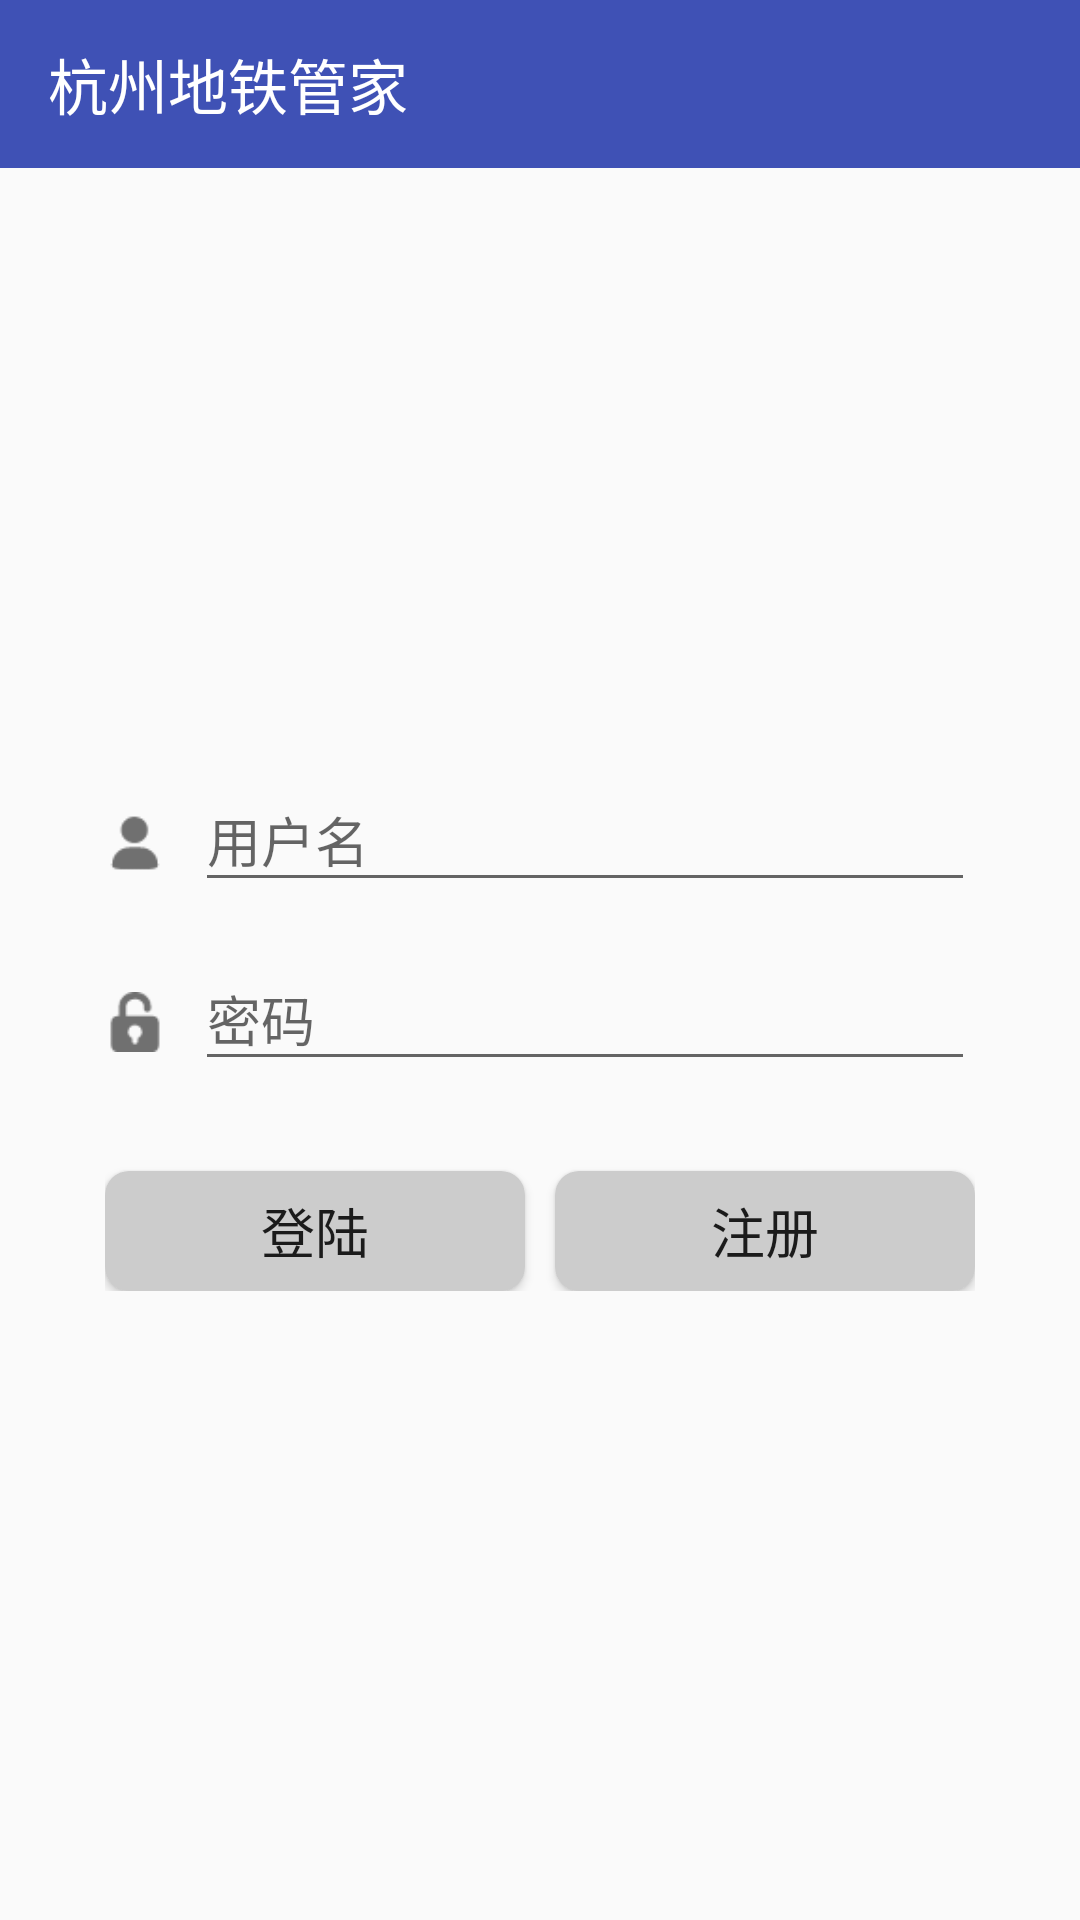

Screen size 1080*1920. Icon name, then its box in pixels as (x1, y1, x2, y2):
password: (110, 992, 160, 1052)
user: (111, 816, 159, 870)
